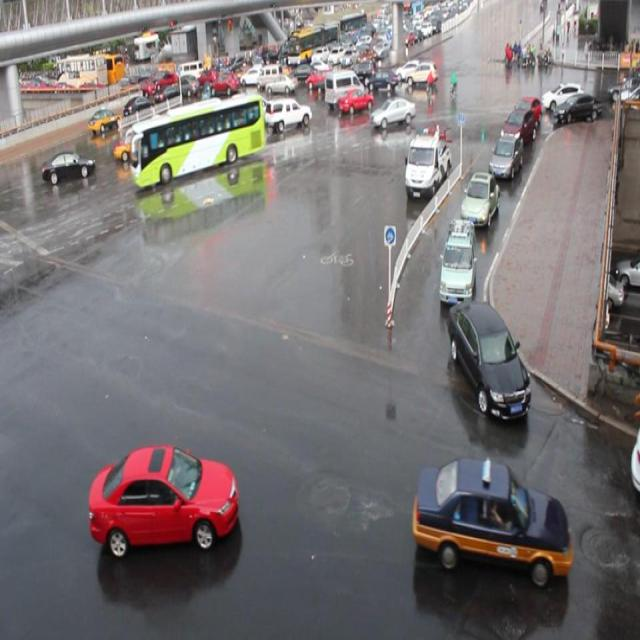bus: (402, 129, 452, 202)
car: (412, 456, 572, 582), (89, 441, 240, 555), (446, 300, 530, 419), (438, 218, 475, 302), (459, 171, 499, 225), (199, 112, 247, 150), (41, 150, 96, 182), (144, 126, 192, 160), (166, 108, 209, 144), (266, 98, 312, 130), (488, 135, 522, 178), (371, 98, 416, 127), (499, 109, 534, 145), (113, 129, 153, 158), (517, 94, 543, 132), (338, 87, 373, 112)
truck: (229, 90, 271, 128), (324, 70, 365, 102)
van: (132, 93, 262, 187)
